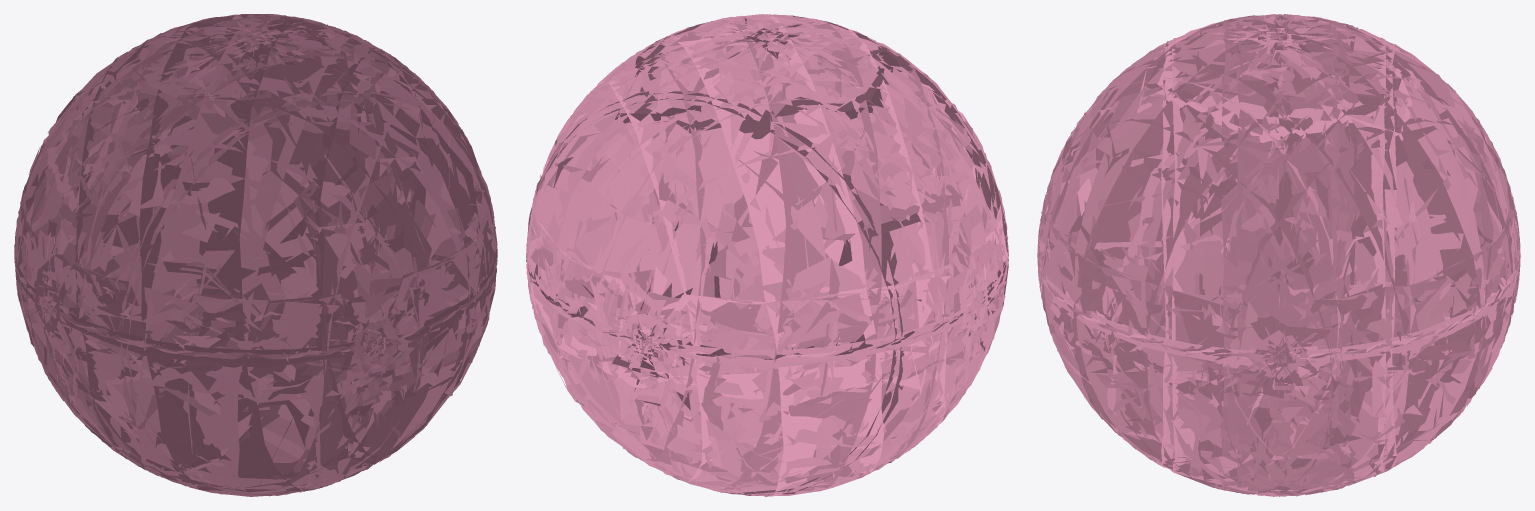
File: sys-sd-fire_gas.glb
3 views of the same model, side by side, from view 1: azimuth 30°, elevation 25°; view 2: azimuth 150°, elevation 25°; view 3: azimuth 270°, elevation 25° (orthographic).
Visible parts, largest first — view 1: TS-sd-fire_gas-1703; view 2: TS-sd-fire_gas-1703; view 3: TS-sd-fire_gas-1703.
Boxes of the visible parts, x1,y1,x2,y2 form: TS-sd-fire_gas-1703: (14,14,497,496); TS-sd-fire_gas-1703: (526,14,1008,496); TS-sd-fire_gas-1703: (1037,14,1520,496).
Bounding box in the file's own units: 2 × 2 × 2.
